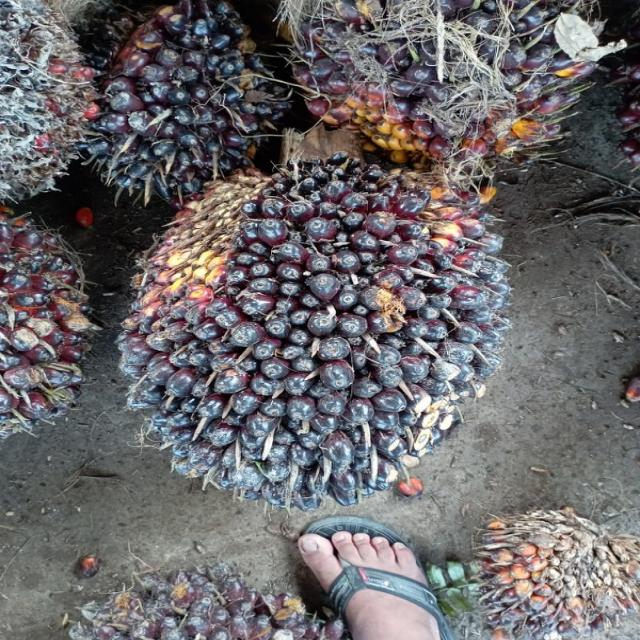fraksi 00: (119, 166, 515, 494), (299, 2, 611, 160), (84, 8, 288, 190)
